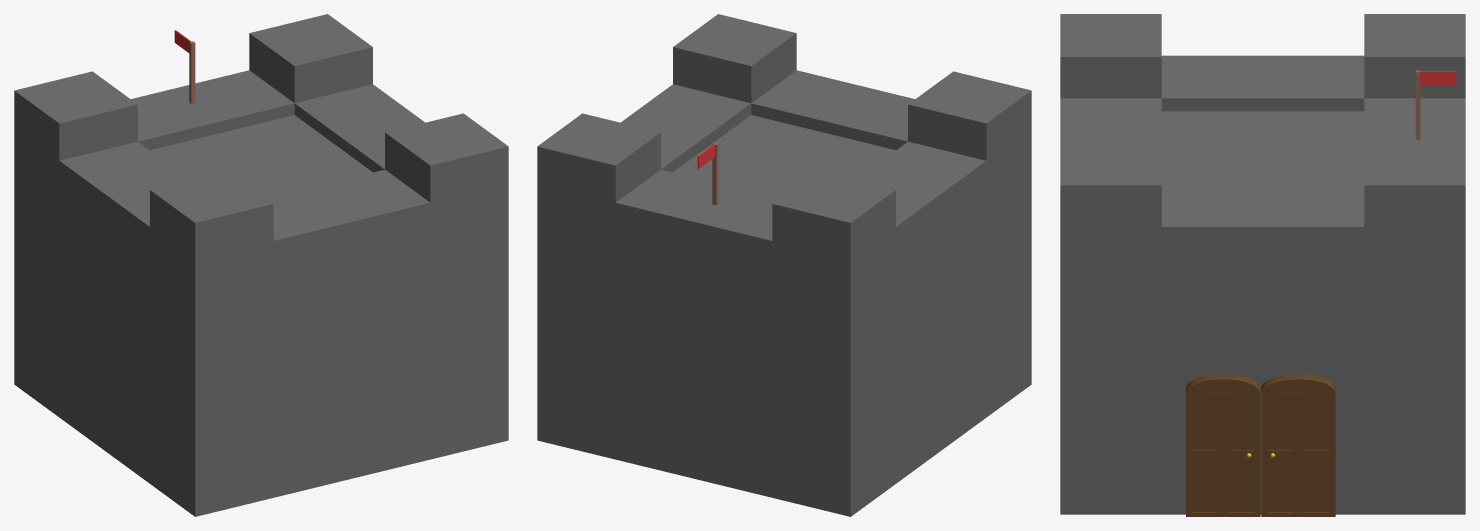
File: Castle.fbx
The picture shows the model from 3 angles, left to right: view 1: azimuth 30°, elevation 25°; view 2: azimuth 150°, elevation 25°; view 3: azimuth 270°, elevation 25°; orthographic projection. The views are drawn at different scales.
Visible parts, largest first — view 1: Cube, Flag; view 2: Cube, Flag; view 3: Cube, Door.001, Door, Flag.
Part boxes in pixels (bbox=[...]): Cube: bbox=[14, 14, 508, 516]; Flag: bbox=[174, 30, 195, 103]; Cube: bbox=[537, 14, 1031, 516]; Flag: bbox=[697, 142, 718, 205]; Cube: bbox=[1060, 14, 1465, 514]; Door.001: bbox=[1186, 374, 1260, 516]; Door: bbox=[1261, 374, 1335, 516]; Flag: bbox=[1415, 70, 1456, 139].
Size of the model in its own units: 1126 by 1059 by 1089.
